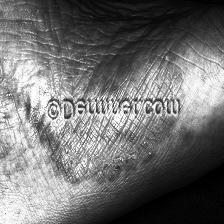Toxin: (121, 138, 155, 178), (60, 145, 94, 184)
